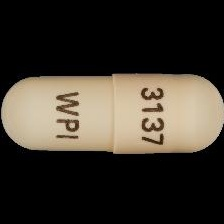68151-0017: (0, 0, 224, 224)
